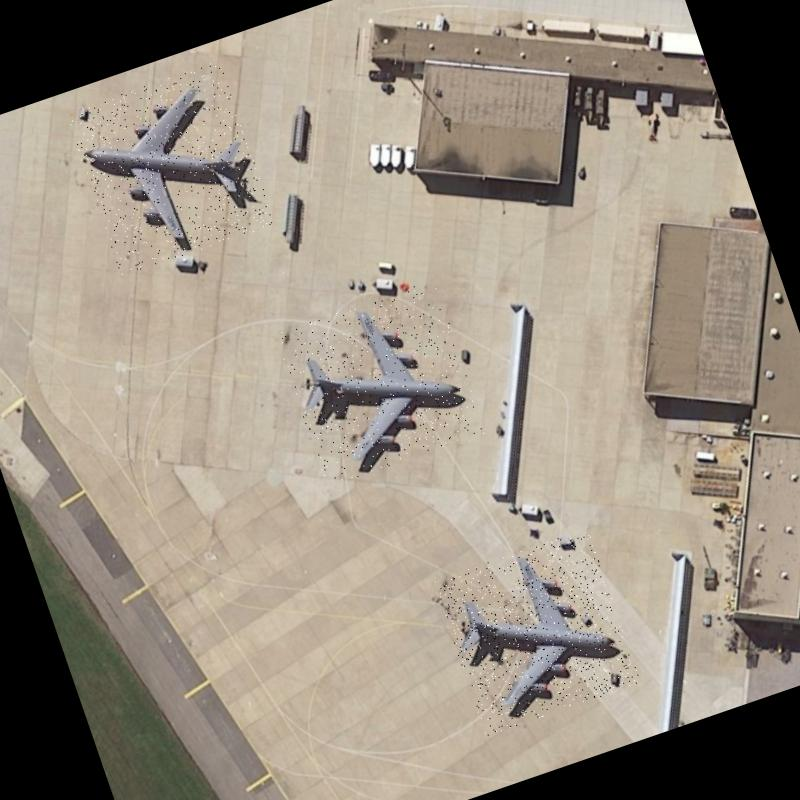A14: (66, 60, 276, 277), (274, 280, 488, 488), (433, 528, 641, 736)
